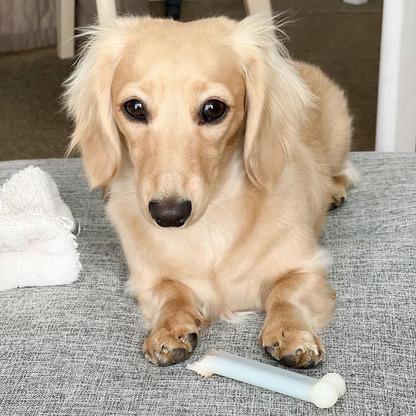dachshund: (64, 16, 380, 385)
